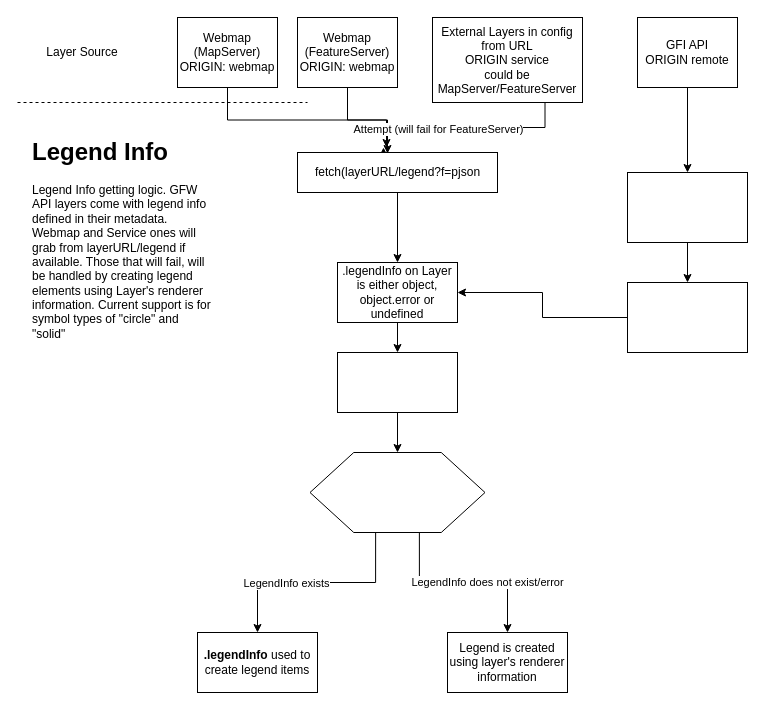
Image size: 765x710. Some labels were removed from this diagram. Here are the shapes that lost their labels. From the top down, the box of each, then its label:
(626, 172, 748, 242): API res > layerConfig .metadata .legendConfig
(626, 282, 748, 352): { items: [] type: 'basic' | name: {en: 'name', fr:} }
(336, 352, 458, 412): ESRI Layer Created
(309, 452, 485, 532): LOOP over all visible, in scale, non-mask type of layers
